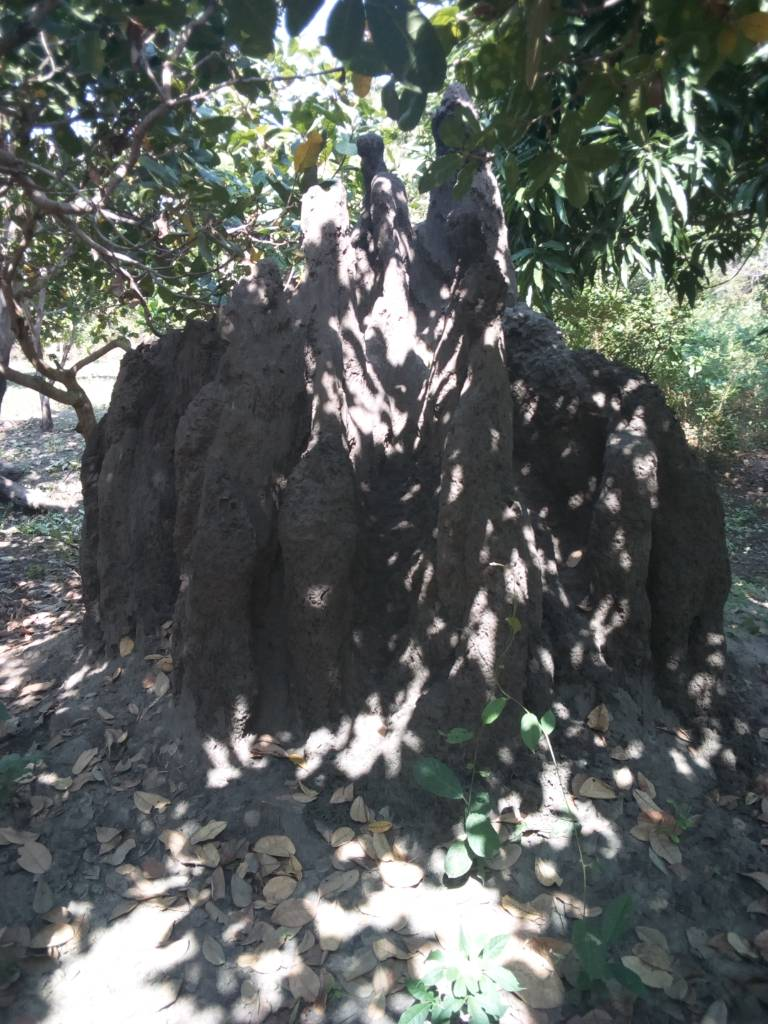Termites: (191, 299, 571, 696), (594, 380, 711, 672), (302, 152, 504, 288), (86, 360, 168, 621)
